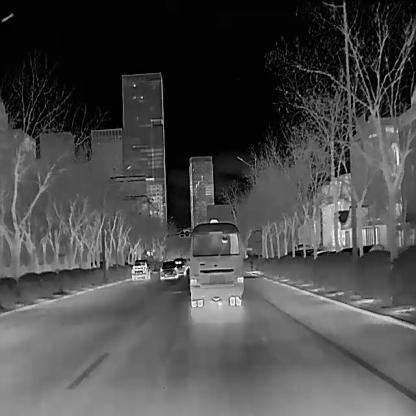bus: (186, 217, 246, 307)
car: (158, 259, 178, 280), (130, 258, 150, 278), (175, 258, 186, 274)
